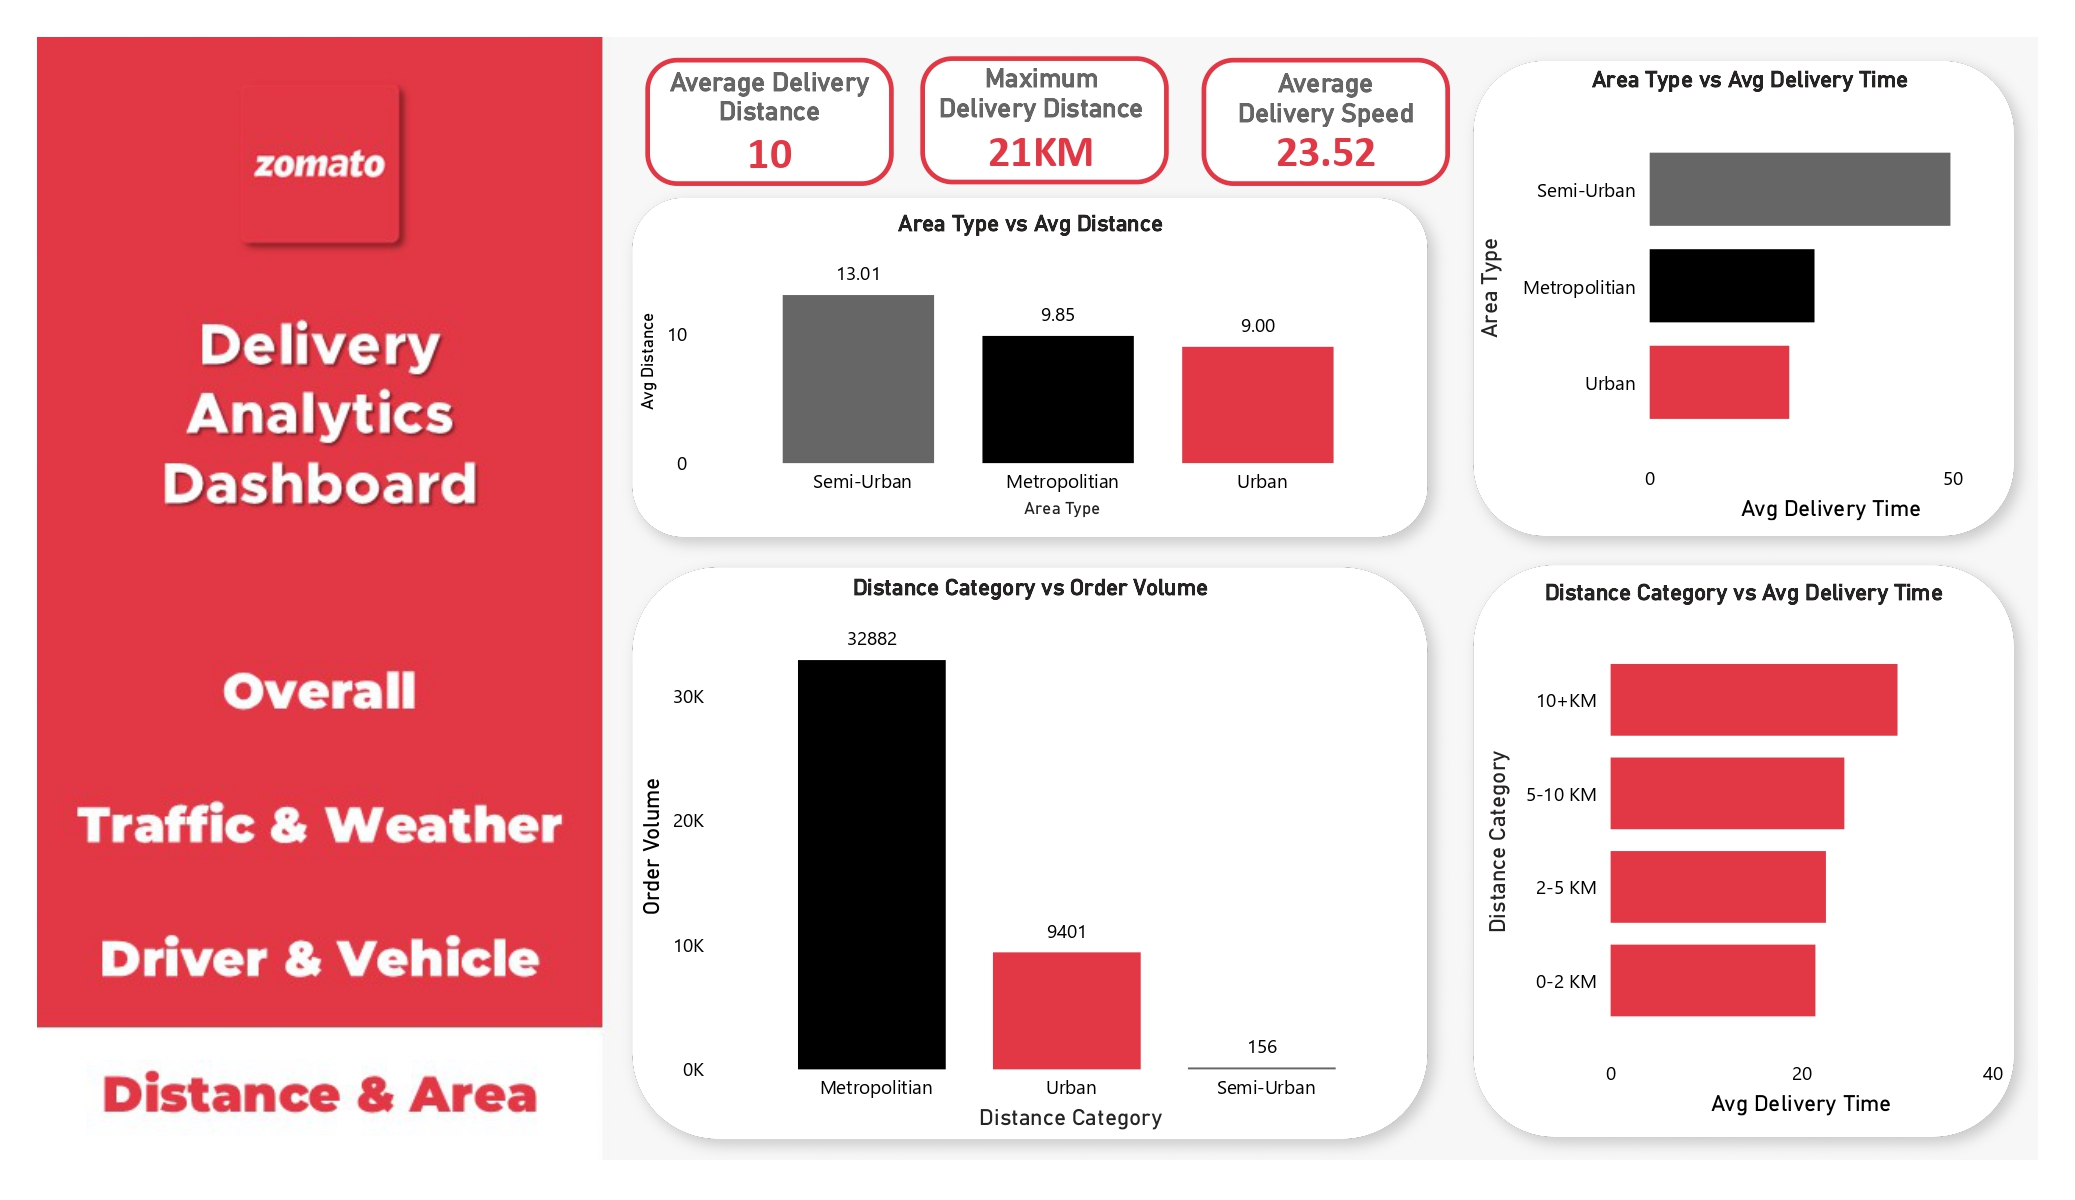

What the dashboard file says about the page in this screenshot:
{"tool":"powerbi","page":{"name":"Distance & Area ","canvas":[1280,720],"ordinal":4},"visuals":[{"type":"shape","box":[904.3,0,375.7,334.3],"z":0,"group":"g5"},{"type":"shape","box":[366.1,87.9,538.6,247.1],"z":0,"group":"g4"},{"type":"shape","box":[903.6,323.2,375.7,395.7],"z":0,"group":"g7"},{"type":"shape","box":[366.1,324.3,538.6,395.7],"z":0,"group":"g6"},{"type":"actionButton","box":[0,371.9,363.6,87.8],"z":0},{"type":"card","title":"Maximum Delivery Distance","fields":{"Values":["Sorted_Zomato.Max Distance Display"]},"box":[570.1,16.3,145,75],"z":1000,"group":"g9"},{"type":"card","title":"Average Delivery Speed","fields":{"Values":["Avg(Sorted_Zomato.Delivery_Speed)"]},"box":[757.5,19.2,134.7,69.2],"z":1000,"group":"g8"},{"type":"clusteredBarChart","title":"Area Type vs Avg Delivery Time","fields":{"Category":["Sorted_Zomato.City"],"Y":["Avg(Sorted_Zomato.Time_taken (min))"]},"box":[916.1,19.3,360,294.3],"z":1000,"group":"g5"},{"type":"clusteredColumnChart","title":"Area Type vs Avg Distance","fields":{"Category":["Sorted_Zomato.City"],"Y":["Avg(Sorted_Zomato.Delivery_Distance_km)"]},"box":[379.7,110.8,511.4,201.4],"z":1000,"group":"g4"},{"type":"clusteredColumnChart","title":"Distance Category vs Order Volume","fields":{"Category":["Sorted_Zomato.City"],"Y":["Count(Sorted_Zomato.ID)"]},"box":[379.7,343.9,511.4,360],"z":1000,"group":"g6"},{"type":"clusteredBarChart","title":"Distance Category vs Avg Delivery Time","fields":{"Y":["Avg(Sorted_Zomato.Time_taken (min))"],"Category":["Sorted_Zomato.Distance Category"]},"box":[920.7,346.8,341.4,348.6],"z":1000,"group":"g7"},{"type":"actionButton","box":[0,459.7,363.6,87.8],"z":1000},{"type":"shape","box":[745.5,12.9,158.6,81.8],"z":2000,"group":"g2"},{"type":"actionButton","box":[0,547.5,363.6,87.8],"z":2000},{"type":"shape","box":[565.2,12.1,158.6,81.8],"z":3000,"group":"g3"},{"type":"group","id":"g1","title":"Group 1","box":[389.1,13.4,158.6,81.8],"z":3000},{"type":"group","id":"g2","title":"Group 7","box":[745.5,12.9,158.6,81.8],"z":4000},{"type":"shape","box":[389.1,13.4,158.6,81.8],"z":4000,"group":"g1"},{"type":"group","id":"g3","title":"Group 8","box":[565.2,12.1,158.6,81.8],"z":5000},{"type":"group","id":"g4","title":"Group 2","box":[366.1,87.9,538.6,247.1],"z":6000},{"type":"group","id":"g5","title":"Group 5","box":[904.3,0,375.7,334.3],"z":7000},{"type":"card","title":"Average Delivery Distance","fields":{"Values":["Avg(Sorted_Zomato.Delivery_Distance_km)"]},"box":[392.8,17.9,151.2,73.8],"z":8000,"group":"g1"},{"type":"group","id":"g6","title":"Group 6","box":[366.1,324.3,538.6,395.7],"z":8000},{"type":"group","id":"g7","title":"Group 9","box":[903.6,323.2,375.7,395.7],"z":9000},{"type":"group","id":"g8","title":"Group 3","box":[757.5,19.2,134.7,69.2],"z":11000,"group":"g2"},{"type":"group","id":"g9","title":"Group 4","box":[570.1,16.3,145,75],"z":12000,"group":"g3"}]}

Visuals, with their boxes on the page's 1280x720 design canvas (x1, y1, x2, y2). These are canvas units, not pixel positions in the 2075x1200 screenshot, which may show the page scaled, cropped or inside an application window:
shape: BBox(904, 0, 1280, 334)
shape: BBox(366, 88, 905, 335)
shape: BBox(904, 323, 1279, 719)
shape: BBox(366, 324, 905, 720)
actionButton: BBox(0, 372, 364, 460)
"Maximum Delivery Distance" card: BBox(570, 16, 715, 91)
"Average Delivery Speed" card: BBox(758, 19, 892, 88)
"Area Type vs Avg Delivery Time" clusteredBarChart: BBox(916, 19, 1276, 314)
"Area Type vs Avg Distance" clusteredColumnChart: BBox(380, 111, 891, 312)
"Distance Category vs Order Volume" clusteredColumnChart: BBox(380, 344, 891, 704)
"Distance Category vs Avg Delivery Time" clusteredBarChart: BBox(921, 347, 1262, 695)
actionButton: BBox(0, 460, 364, 548)
shape: BBox(746, 13, 904, 95)
actionButton: BBox(0, 548, 364, 635)
shape: BBox(565, 12, 724, 94)
"Group 1" group: BBox(389, 13, 548, 95)
"Group 7" group: BBox(746, 13, 904, 95)
shape: BBox(389, 13, 548, 95)
"Group 8" group: BBox(565, 12, 724, 94)
"Group 2" group: BBox(366, 88, 905, 335)
"Group 5" group: BBox(904, 0, 1280, 334)
"Average Delivery Distance" card: BBox(393, 18, 544, 92)
"Group 6" group: BBox(366, 324, 905, 720)
"Group 9" group: BBox(904, 323, 1279, 719)
"Group 3" group: BBox(758, 19, 892, 88)
"Group 4" group: BBox(570, 16, 715, 91)
